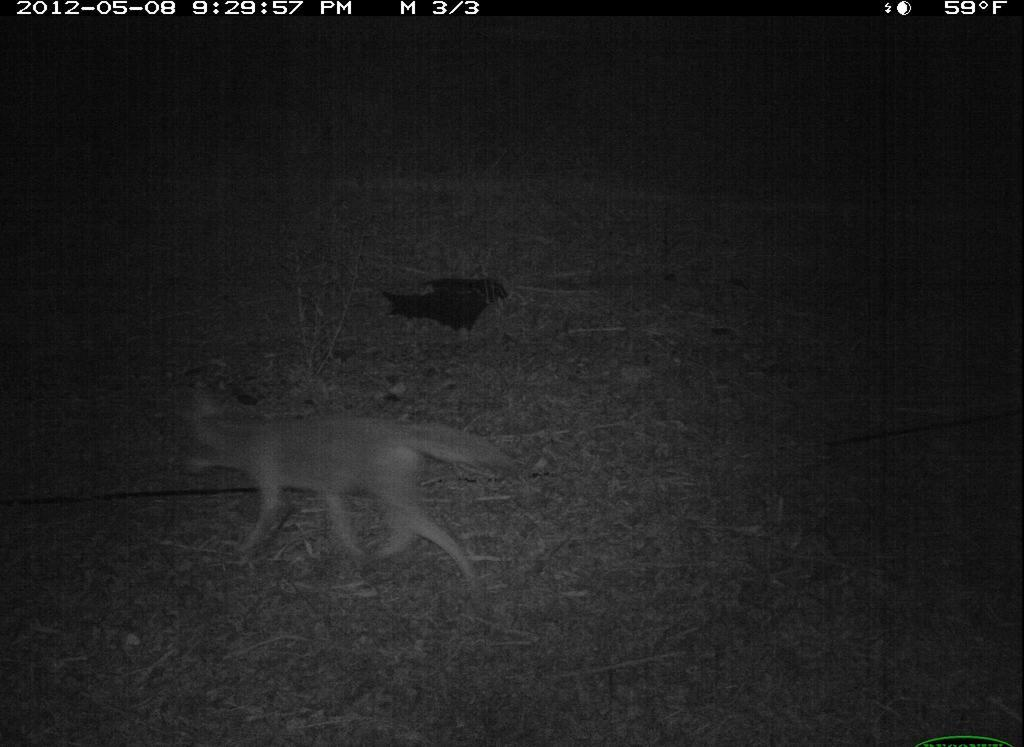coyote: (173, 368, 525, 594)
